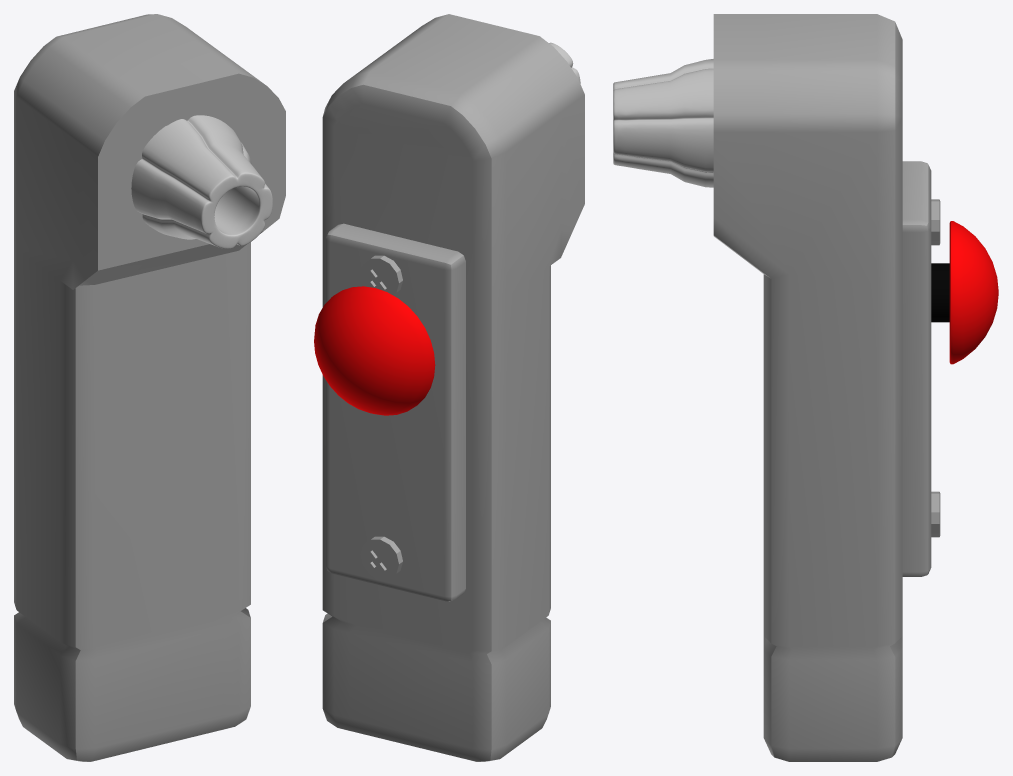
Rendered from sodagun_model.fbx.
The picture shows the model from 3 angles, left to right: view 1: azimuth 30°, elevation 25°; view 2: azimuth 150°, elevation 25°; view 3: azimuth 270°, elevation 25°; orthographic projection. The views are drawn at different scales.
Parts seen in each view (by area): view 1: pCube4; view 2: pCube4, polySurface3; view 3: pCube4, polySurface3.
Boxes of the visible parts, x1=… form: pCube4: x1=14, y1=14, x2=285, y2=761; pCube4: x1=322, y1=14, x2=584, y2=761; polySurface3: x1=314, y1=286, x2=435, y2=415; pCube4: x1=613, y1=14, x2=940, y2=761; polySurface3: x1=931, y1=221, x2=998, y2=364.
Size of the model in its own units: 2.07 by 7.24 by 3.67.
